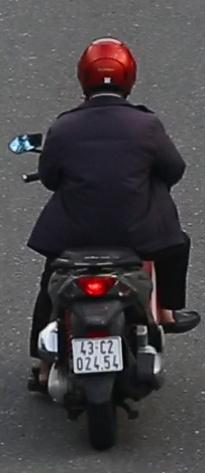LP: (71, 334, 126, 376)
helmet: (76, 30, 139, 114)
